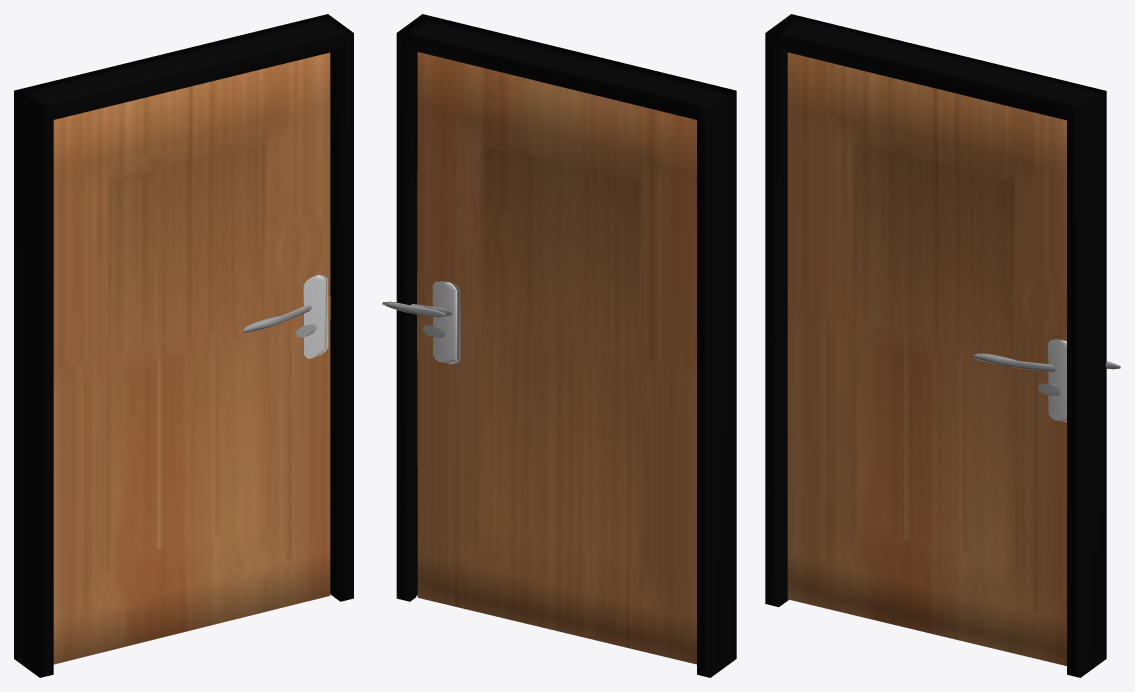
Rendered from Door.fbx.
The picture shows the model from 3 angles, left to right: view 1: azimuth 30°, elevation 25°; view 2: azimuth 150°, elevation 25°; view 3: azimuth 330°, elevation 25°; orthographic projection.
Visible parts, largest first — view 1: DoorBody, DoorFrame, Locker.001; view 2: DoorBody, DoorFrame, Locker; view 3: DoorBody, DoorFrame, Locker.001.
Part boxes in pixels (x1,y1,x2,y2): DoorBody: (53, 52, 330, 664); DoorFrame: (14, 14, 353, 677); Locker.001: (242, 274, 328, 358); DoorBody: (417, 52, 696, 664); DoorFrame: (396, 14, 736, 677); Locker: (382, 281, 460, 363); DoorBody: (787, 52, 1066, 665); DoorFrame: (765, 14, 1106, 677); Locker.001: (973, 339, 1066, 421).
Bounding box in the file's own units: 747 × 1242 × 109.
